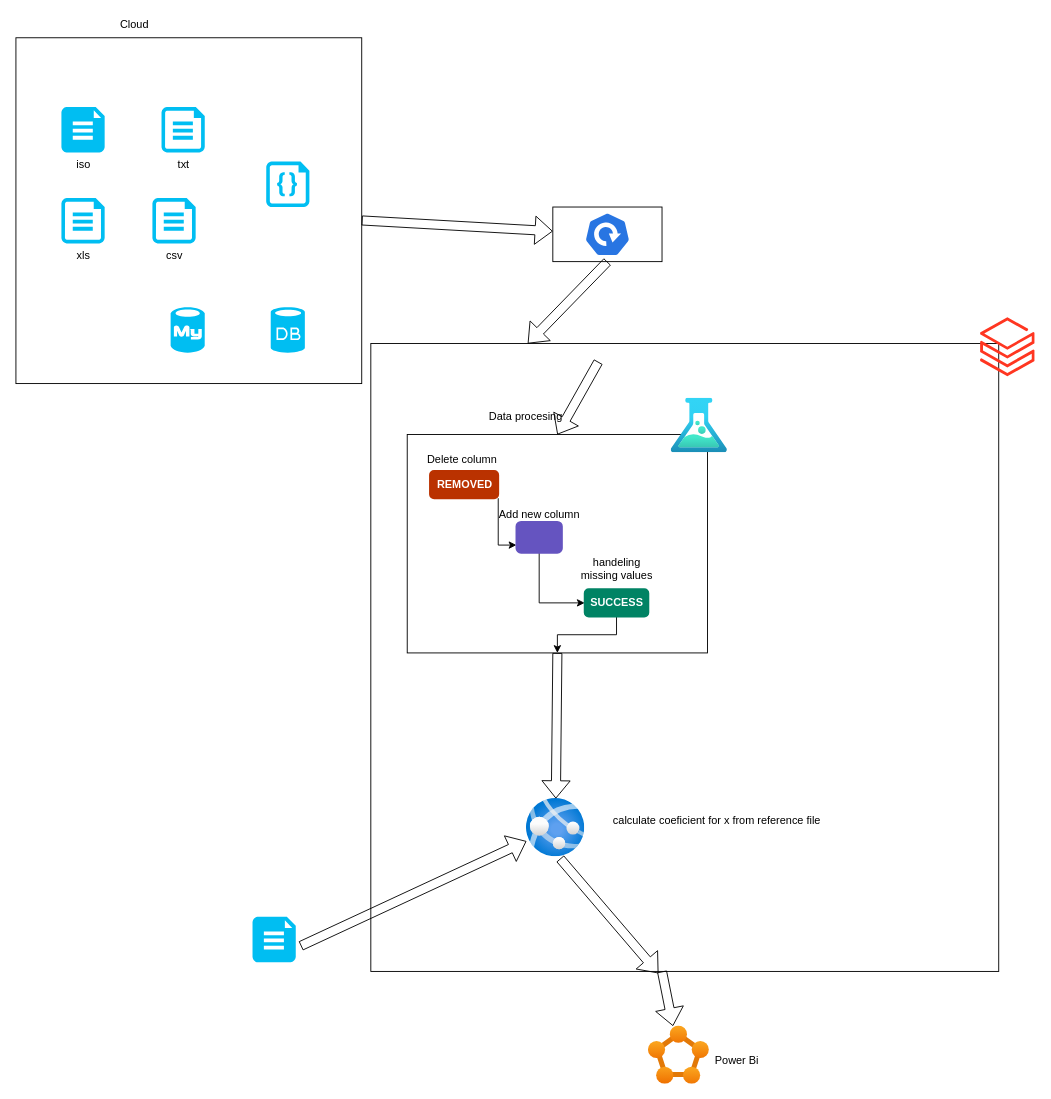
Some shapes in this 1051 by 1099 pixel diagram are drawn without their labels. Here are the shapes that lost their labels. From the top down, the centre of each, then its label:
At [287,184]: "json".
At [607,234]: "Data Loaders".
At [538,537]: "NEW".
